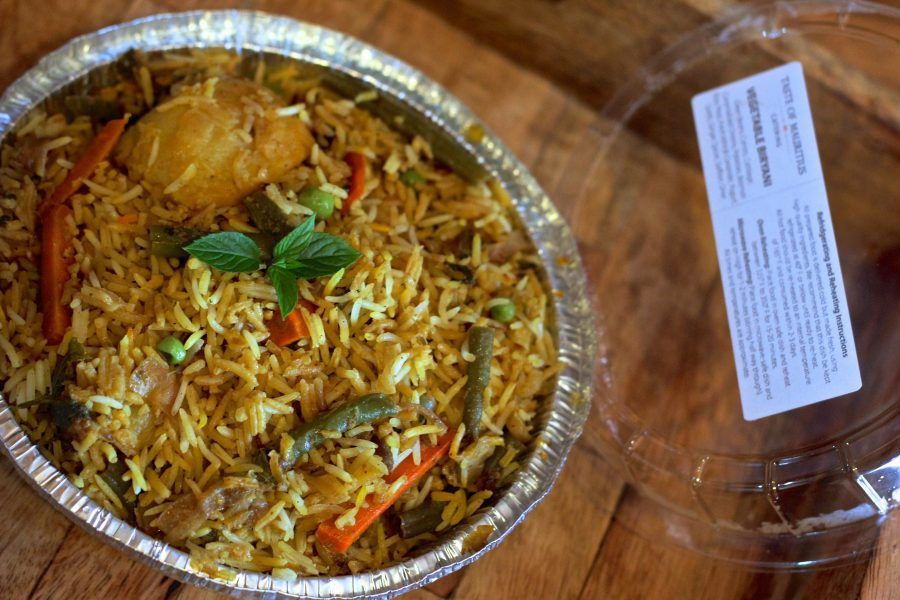Biryani: (9, 56, 557, 553)
